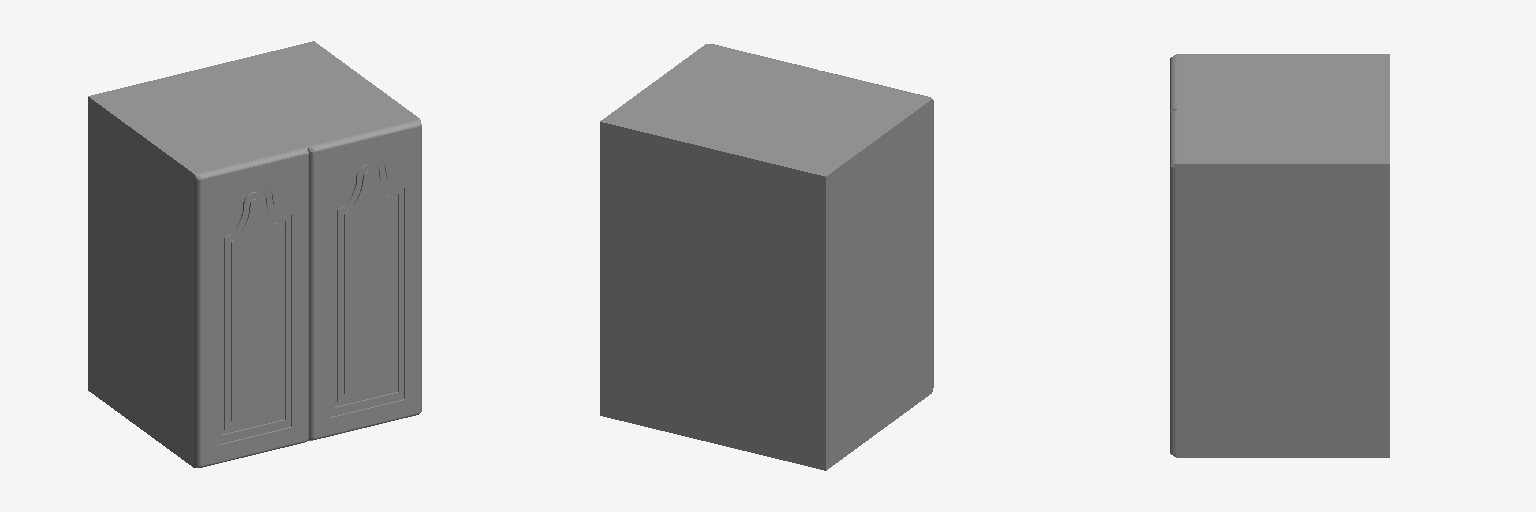
Rendered from double-base-unit-700.obj.
The picture shows the model from 3 angles: view 1: azimuth 30°, elevation 25°; view 2: azimuth 150°, elevation 25°; view 3: azimuth 270°, elevation 25°; orthographic projection.
Parts seen in each view (by area): view 1: Cube.003_Cube.008, Cube.004_Cube.000, Cube.002_Cube.004, Cube_Cube.002; view 2: Cube_Cube.002, Cube.002_Cube.004, Cube.001_Cube.003, Cube.003_Cube.008; view 3: Cube.001_Cube.003, Cube_Cube.002, Cube.004_Cube.000.
Part boxes in pixels (left/top/right/bottom): Cube.003_Cube.008: left=194, top=147, right=308, bottom=467; Cube.004_Cube.000: left=307, top=119, right=421, bottom=440; Cube.002_Cube.004: left=88, top=95, right=198, bottom=467; Cube_Cube.002: left=93, top=42, right=414, bottom=172; Cube_Cube.002: left=605, top=45, right=926, bottom=469; Cube.002_Cube.004: left=821, top=98, right=931, bottom=470; Cube.001_Cube.003: left=600, top=44, right=709, bottom=416; Cube.003_Cube.008: left=820, top=71, right=933, bottom=391; Cube.001_Cube.003: left=1177, top=162, right=1389, bottom=457; Cube_Cube.002: left=1177, top=56, right=1389, bottom=161; Cube.004_Cube.000: left=1170, top=110, right=1176, bottom=457.
Size of the model in its own units: 140 by 174 by 118.